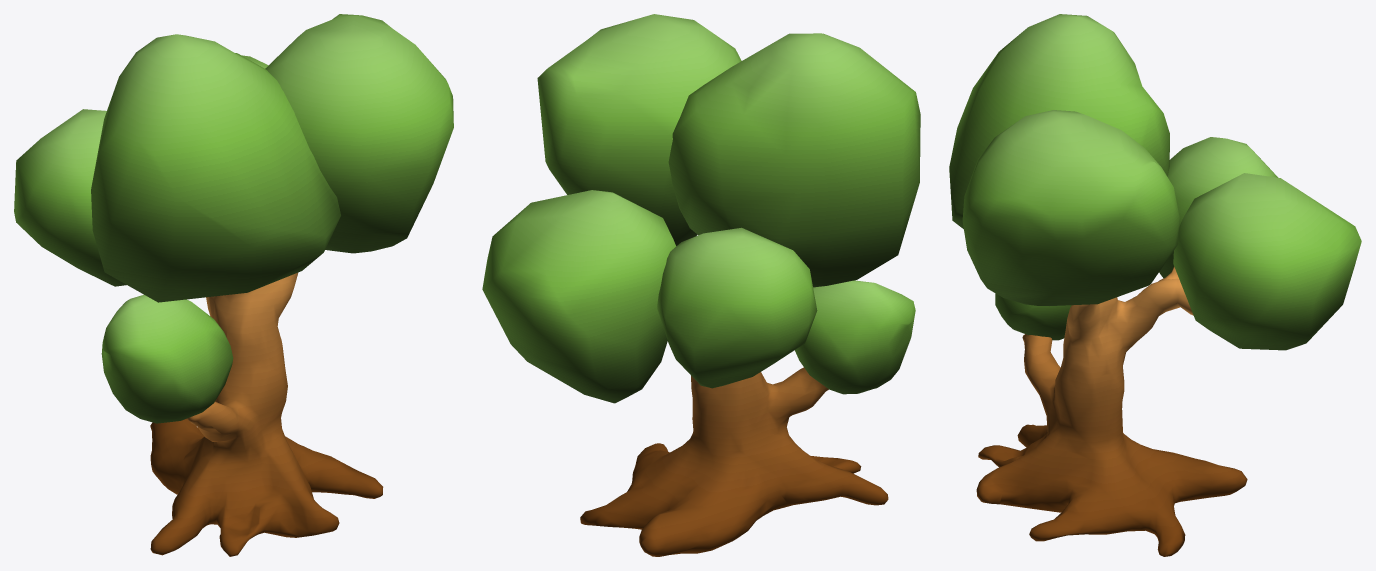
Rendered from Tree3 B2G2.fbx.
The picture shows the model from 3 angles, left to right: view 1: azimuth 30°, elevation 25°; view 2: azimuth 150°, elevation 25°; view 3: azimuth 270°, elevation 25°; orthographic projection. The views are drawn at different scales.
Parts seen in each view (by area): view 1: Tree3 Leaves.010, Tree3 B2, Tree3 Leaves.001, Tree3 Leaves.007, Tree3 Leaves.009; view 2: Tree3 Leaves.010, Tree3 Leaves.008, Tree3 B2, Tree3 Leaves.001, Tree3 Leaves.009, Tree3 Leaves.007; view 3: Tree3 Leaves.001, Tree3 B2, Tree3 Leaves.008, Tree3 Leaves.010, Tree3 Leaves.009, Tree3 Leaves.007.
Part boxes in pixels (<box>): Tree3 Leaves.010: <box>91,34,340,302</box>; Tree3 B2: <box>150,272,383,556</box>; Tree3 Leaves.001: <box>265,14,453,253</box>; Tree3 Leaves.007: <box>101,295,233,423</box>; Tree3 Leaves.009: <box>14,109,126,286</box>; Tree3 Leaves.010: <box>668,33,920,287</box>; Tree3 Leaves.008: <box>482,190,676,403</box>; Tree3 B2: <box>580,367,888,556</box>; Tree3 Leaves.001: <box>537,14,741,245</box>; Tree3 Leaves.009: <box>657,227,817,388</box>; Tree3 Leaves.007: <box>795,280,915,394</box>; Tree3 Leaves.001: <box>962,110,1179,305</box>; Tree3 B2: <box>976,266,1247,556</box>; Tree3 Leaves.008: <box>1173,173,1361,350</box>; Tree3 Leaves.010: <box>949,14,1169,229</box>; Tree3 Leaves.009: <box>1159,137,1277,278</box>; Tree3 Leaves.007: <box>995,293,1071,340</box>.
Bounding box in the file's own units: 19.6 × 22.2 × 27.21.
